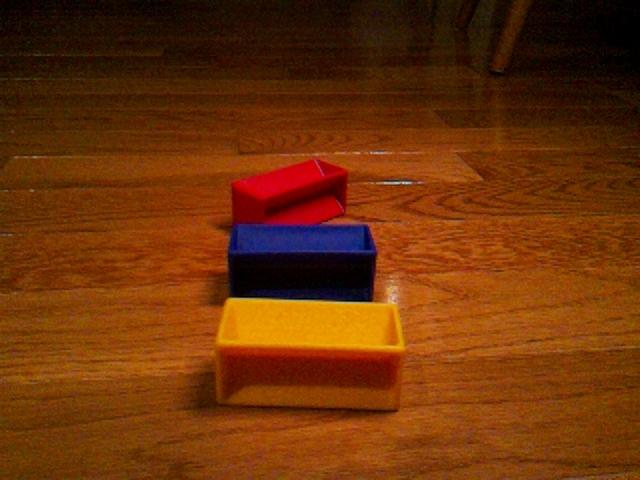blue: (227, 222, 378, 302)
red: (230, 157, 350, 226)
yellow: (214, 296, 407, 413)
